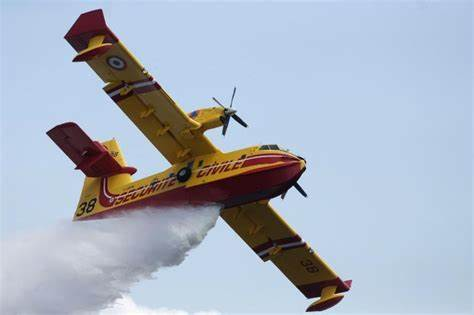Aeronef_de_service: (27, 5, 351, 314)
